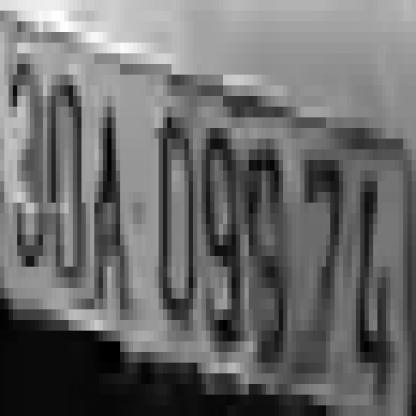0: (154, 118, 198, 310), (47, 75, 86, 277)
3: (8, 53, 43, 267)
4: (352, 170, 394, 394)
9: (206, 139, 240, 341)
A: (90, 96, 129, 299)
